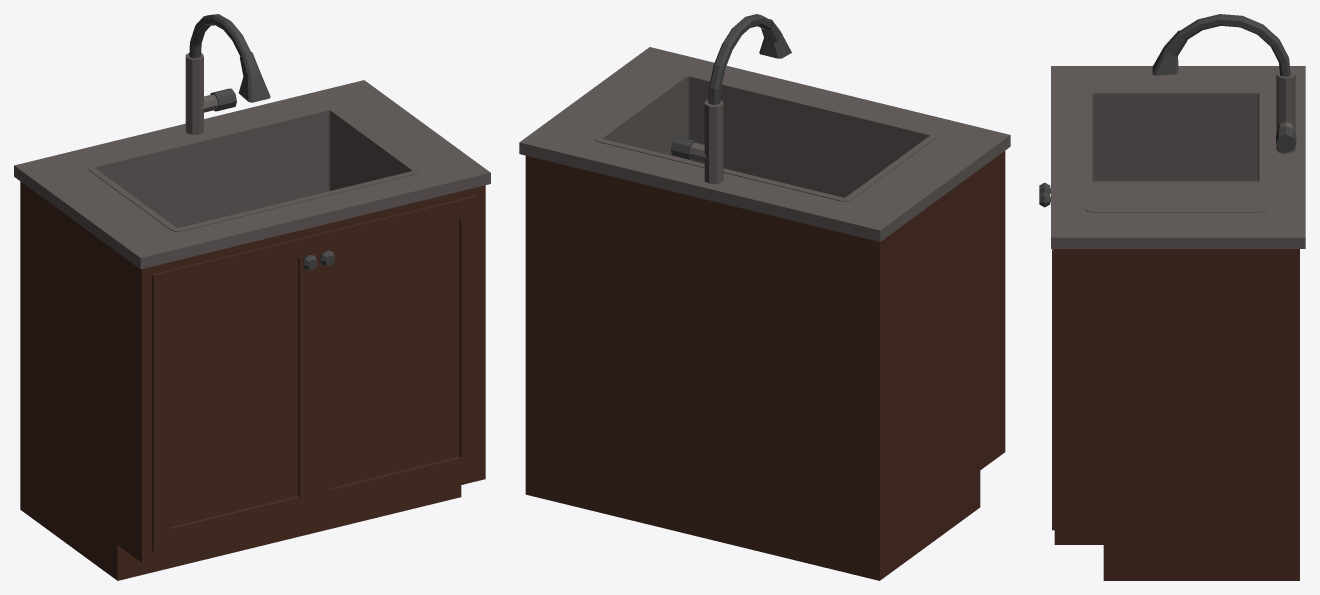
File: MarbleSink1KitchenCabinet1.glb
The picture shows the model from 3 angles, left to right: view 1: azimuth 30°, elevation 25°; view 2: azimuth 150°, elevation 25°; view 3: azimuth 270°, elevation 25°; orthographic projection. The views are drawn at different scales.
Parts seen in each view (by area): view 1: MarbleSinkKitchenCabinet1, DoorR1MarbleSinkKitchenCabinet1, DoorL1MarbleSinkKitchenCabinet1, FaucetSpout1MarbleSinkKitchenCabinet1; view 2: MarbleSinkKitchenCabinet1, FaucetSpout1MarbleSinkKitchenCabinet1; view 3: MarbleSinkKitchenCabinet1, FaucetSpout1MarbleSinkKitchenCabinet1, DoorL1MarbleSinkKitchenCabinet1, FaucetLever1MarbleSinkKitchenCabinet1.
Part boxes in pixels (box(x1,y1,x2,y2)): MarbleSinkKitchenCabinet1: box(14, 53, 490, 580); DoorR1MarbleSinkKitchenCabinet1: box(152, 235, 317, 551); DoorL1MarbleSinkKitchenCabinet1: box(314, 195, 476, 512); FaucetSpout1MarbleSinkKitchenCabinet1: box(189, 14, 270, 102); MarbleSinkKitchenCabinet1: box(519, 47, 1010, 580); FaucetSpout1MarbleSinkKitchenCabinet1: box(708, 14, 791, 104); MarbleSinkKitchenCabinet1: box(1051, 66, 1305, 580); FaucetSpout1MarbleSinkKitchenCabinet1: box(1152, 14, 1290, 76); DoorL1MarbleSinkKitchenCabinet1: box(1039, 191, 1054, 530); FaucetLever1MarbleSinkKitchenCabinet1: box(1276, 126, 1296, 152).
Size of the model in its own units: 0.9707 by 1.26 by 0.6359.
